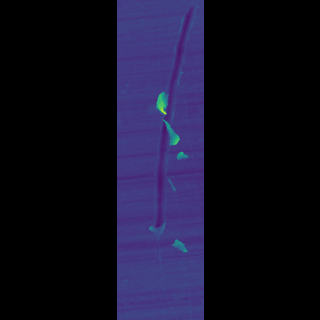Loch: (156, 1, 170, 238), (160, 119, 165, 146), (158, 89, 162, 113), (162, 237, 167, 255), (164, 150, 167, 160)
